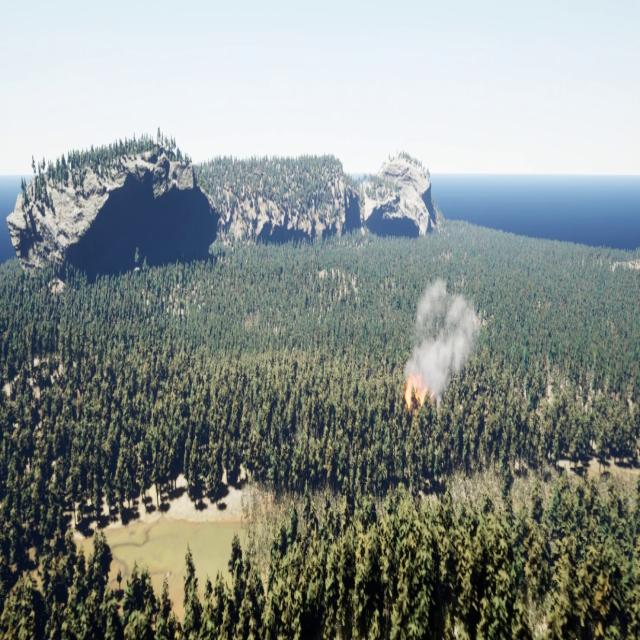fire: (405, 378, 432, 412)
smoke: (408, 277, 482, 406)
